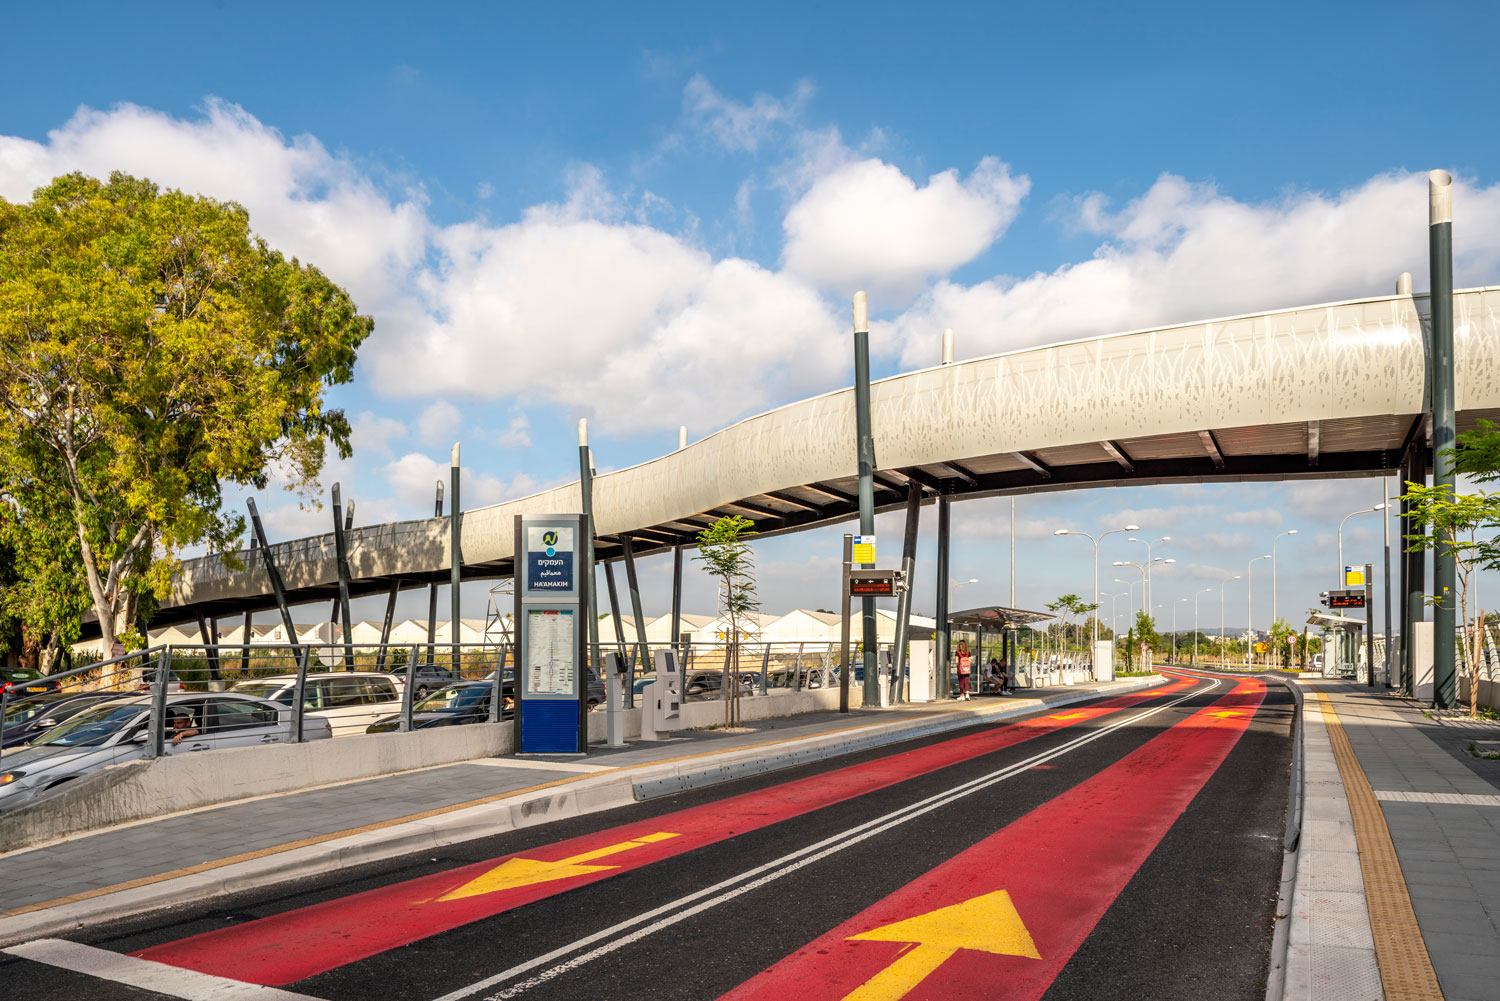bridge: (135, 282, 1494, 625)
